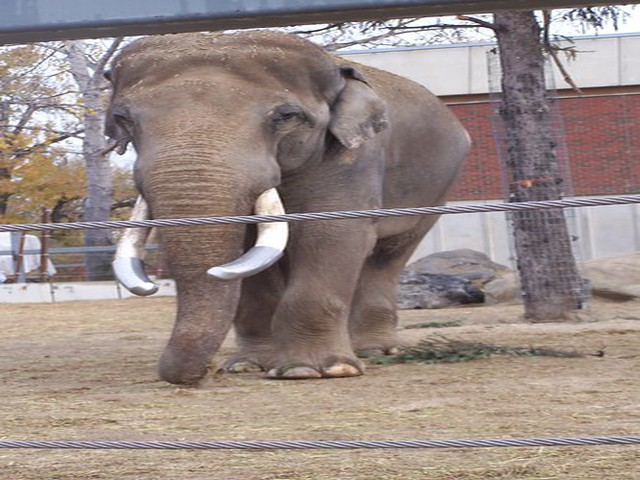Elephant: (103, 24, 474, 380)
